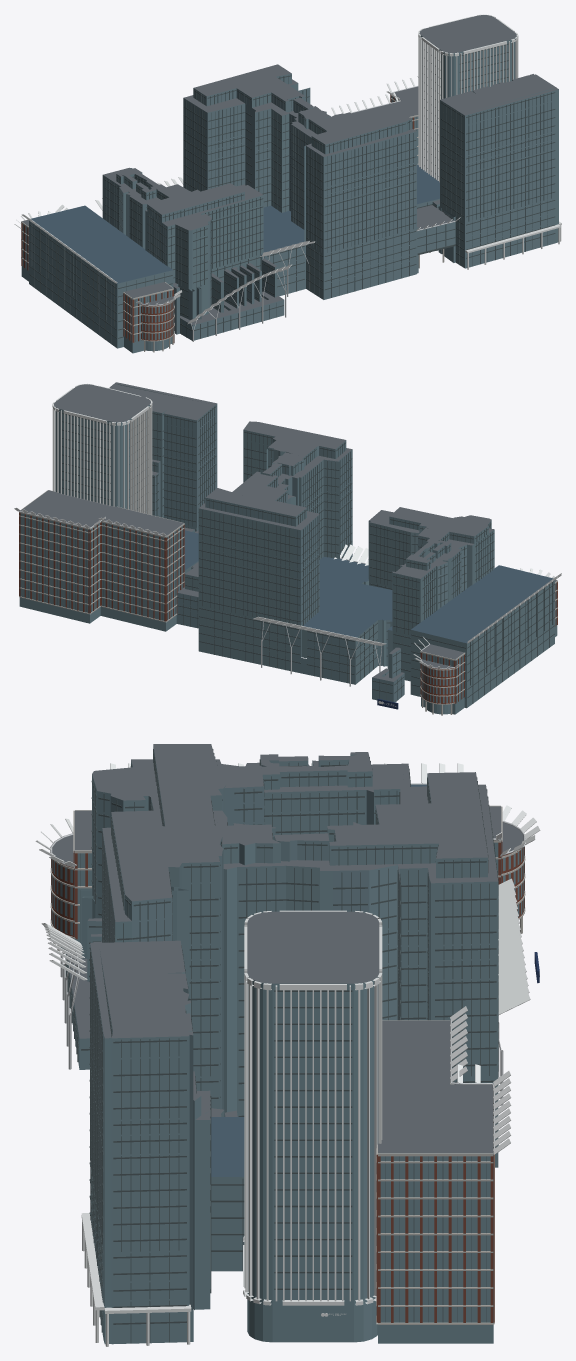
File: wtc-amsterdam.glb
The picture shows the model from 3 angles, top to bottom: view 1: azimuth 30°, elevation 25°; view 2: azimuth 150°, elevation 25°; view 3: azimuth 270°, elevation 25°; orthographic projection. The views are drawn at different scales.
Visible parts, largest first — view 1: wtc-amsterdam; view 2: wtc-amsterdam; view 3: wtc-amsterdam.
Boxes of the visible parts, <box> form: wtc-amsterdam: <box>14,14,561,353</box>; wtc-amsterdam: <box>14,382,561,715</box>; wtc-amsterdam: <box>35,744,540,1346</box>.
Bounding box in the file's own units: 205 × 78.01 × 99.45.
